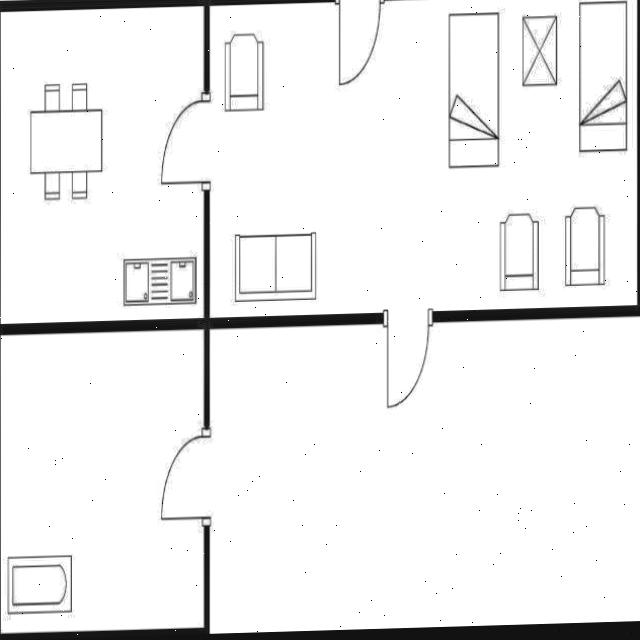room: (210, 0, 637, 318), (1, 6, 204, 324), (1, 329, 204, 634)
